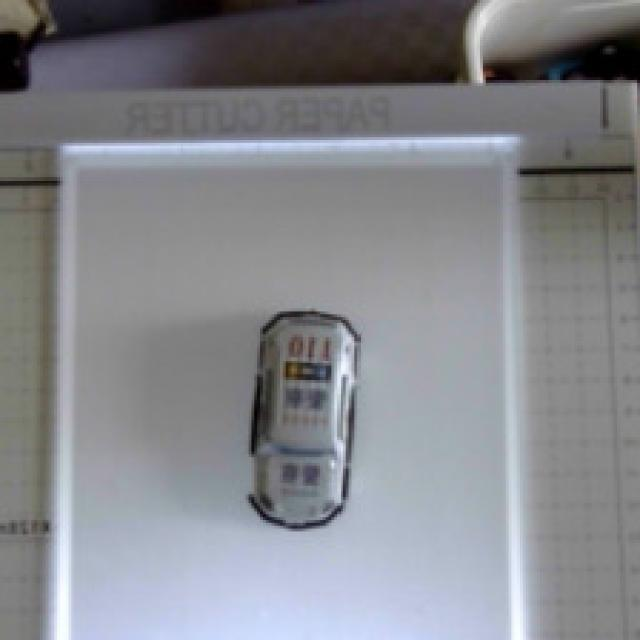Grey Car: (219, 307, 393, 554)
